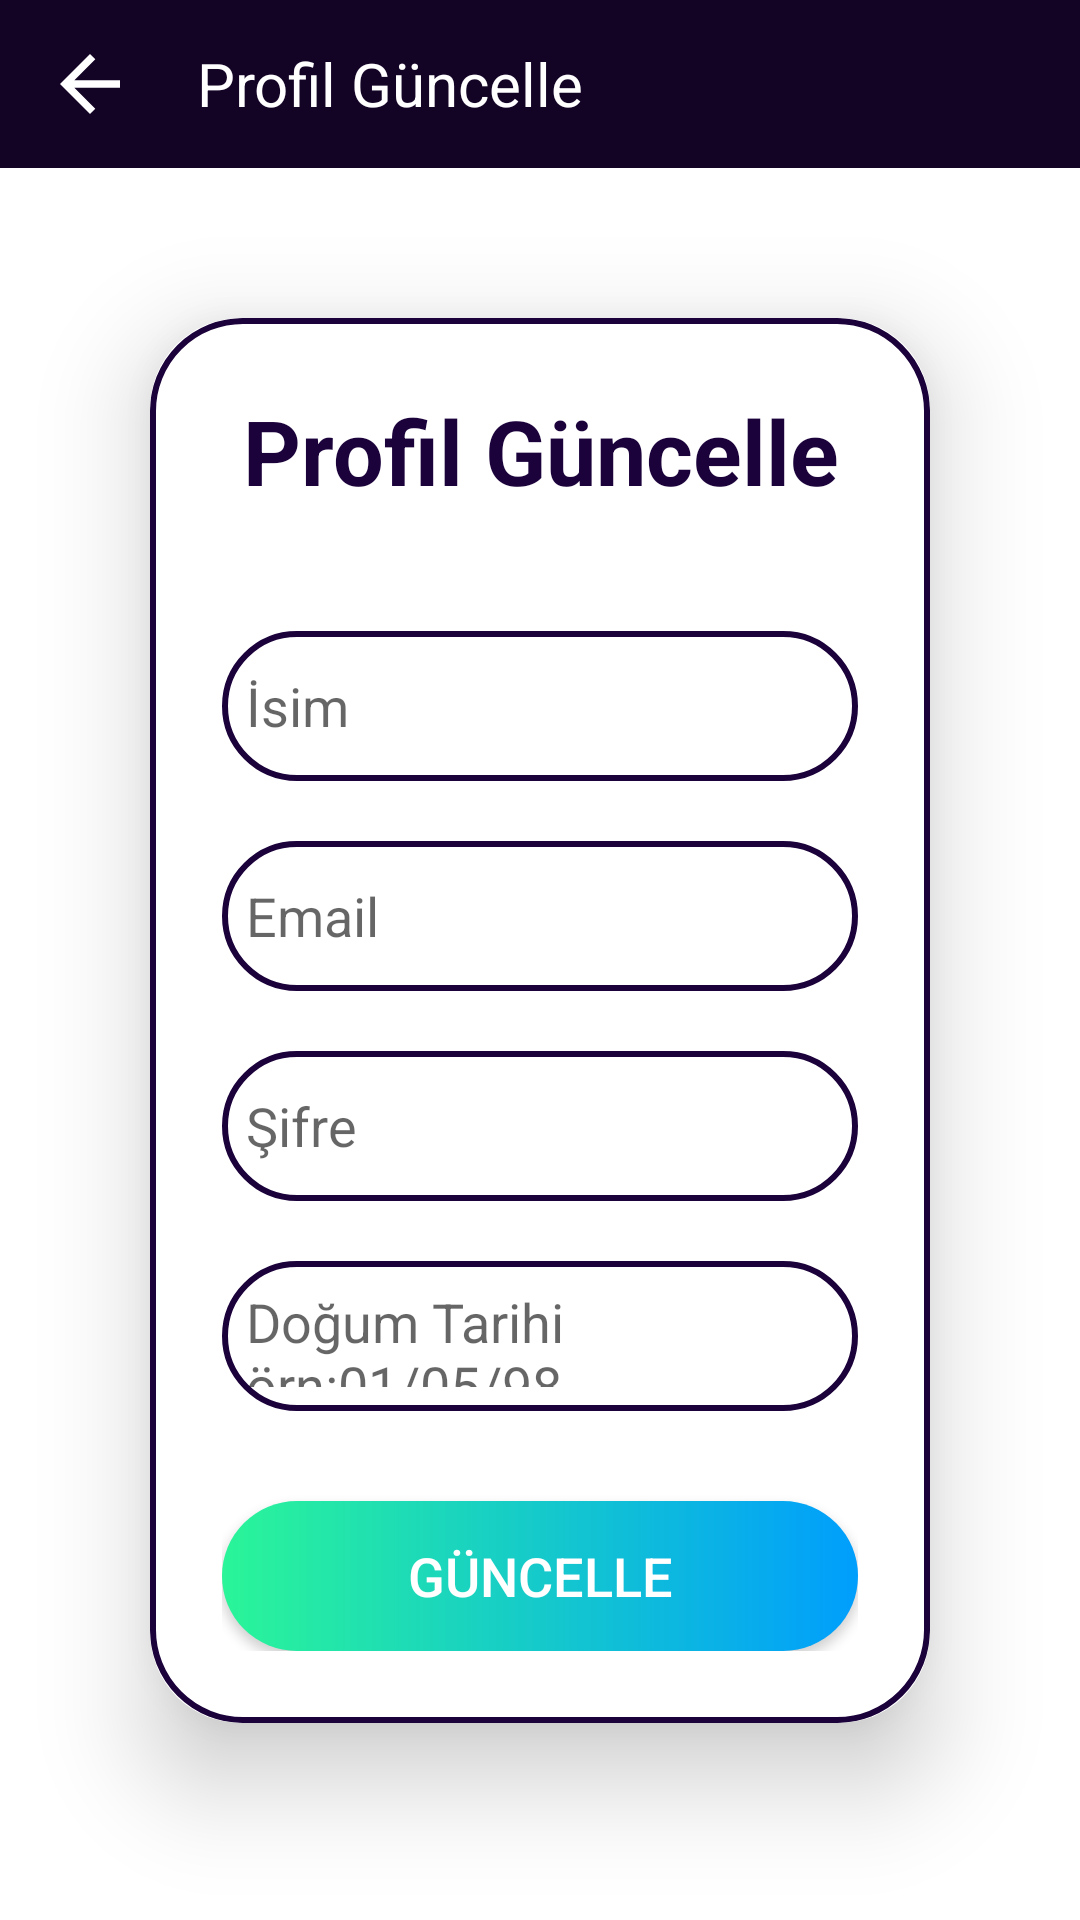

Icons on this 1080px×1920px Android screen, each with its box as (x1, y1, x2, y2):
back buton: (60, 54, 120, 114)
